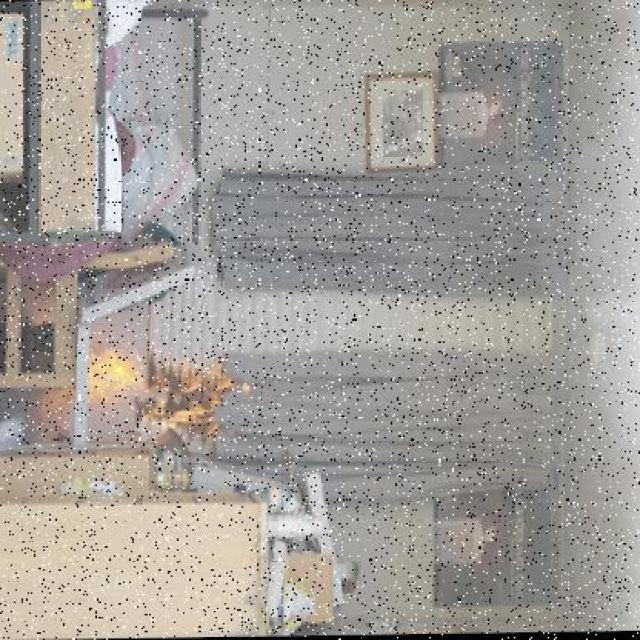fire: (168, 361, 262, 446), (81, 334, 167, 417)
